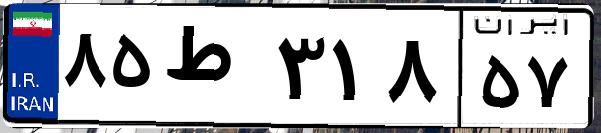1: (330, 28, 385, 110)
3: (270, 28, 330, 110)
5: (475, 38, 525, 113), (110, 28, 158, 98)
7: (525, 38, 570, 115)
8: (385, 28, 445, 110), (57, 26, 110, 100)
ط: (158, 20, 270, 120)
